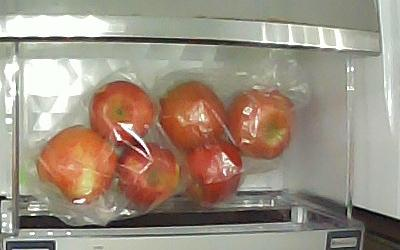apple_vinyl: (39, 124, 118, 204), (231, 87, 300, 161), (158, 81, 229, 150), (89, 80, 155, 145), (117, 144, 180, 209), (180, 143, 244, 204)
